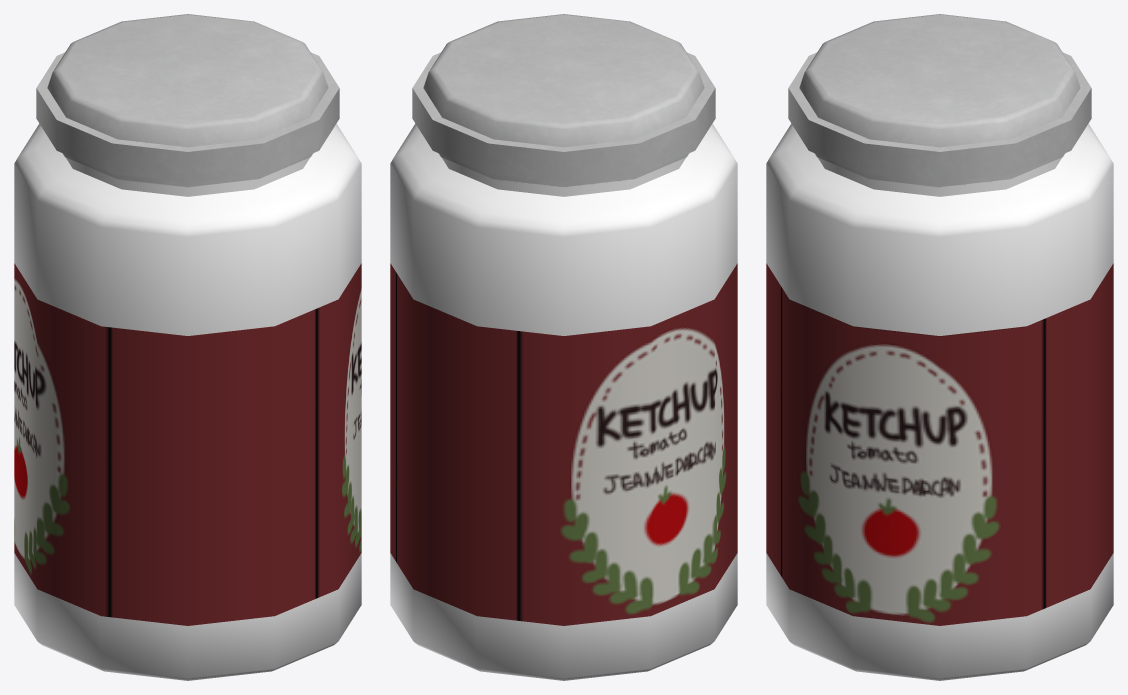
File: red_rabel.FBX
3 renders of one model, left to right at view 1: azimuth 30°, elevation 25°; view 2: azimuth 150°, elevation 25°; view 3: azimuth 270°, elevation 25°, orthographic.
Visible parts, largest first — view 1: red_rabel; view 2: red_rabel; view 3: red_rabel.
Boxes of the visible parts, <box> form: red_rabel: <box>14,14,361,680</box>; red_rabel: <box>390,14,737,680</box>; red_rabel: <box>766,14,1113,680</box>.
Size of the model in its own units: 12.4 by 21.29 by 12.4.
